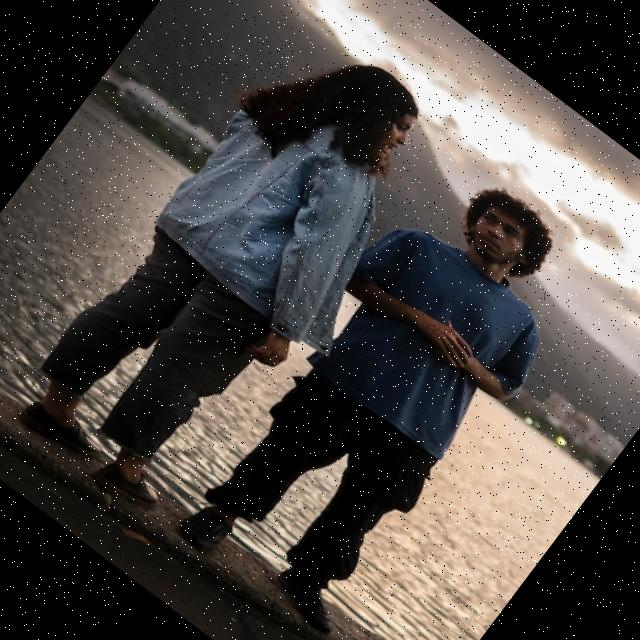Person: (7, 11, 482, 542), (158, 142, 610, 640)
